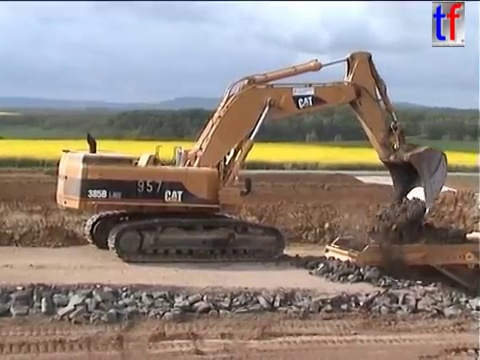excavator: (53, 47, 451, 266)
truck: (321, 230, 480, 331)
